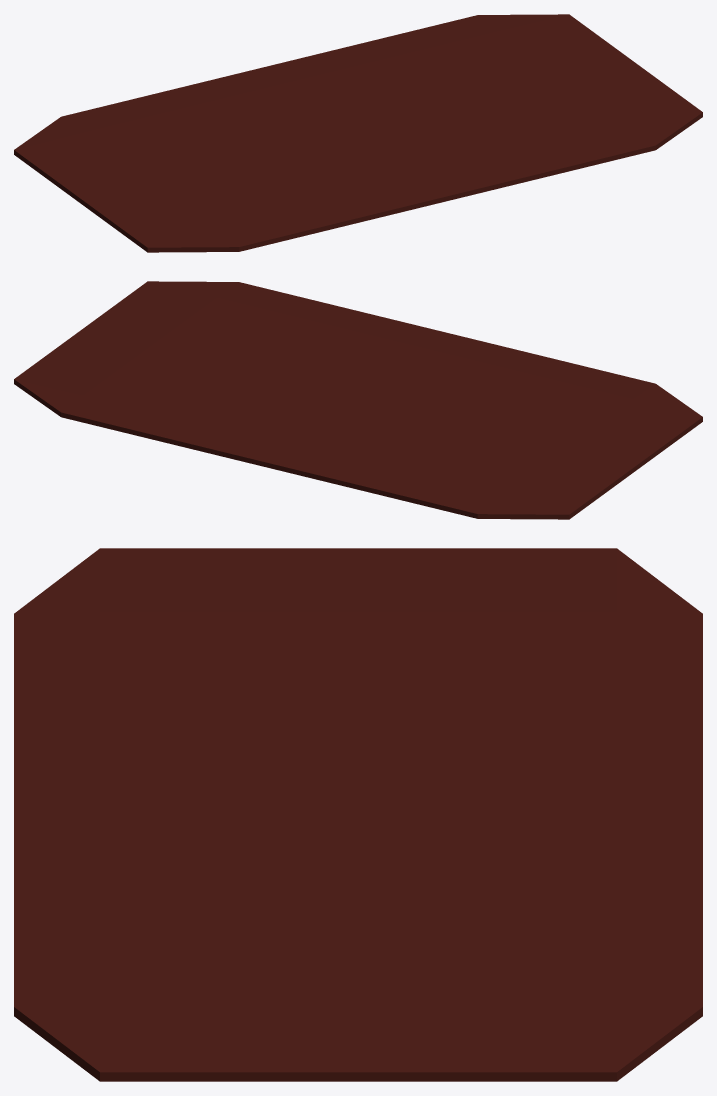
Rendered from SimpleRugOrCarpet.fbx.
The picture shows the model from 3 angles, top to bottom: view 1: azimuth 30°, elevation 25°; view 2: azimuth 150°, elevation 25°; view 3: azimuth 270°, elevation 25°; orthographic projection. The views are drawn at different scales.
Visible parts, largest first — view 1: block_bevel; view 2: block_bevel; view 3: block_bevel.
Boxes of the visible parts, x1,y1,x2,y2 form: block_bevel: (14, 14, 702, 252); block_bevel: (14, 281, 702, 519); block_bevel: (14, 548, 702, 1081).
Bounding box in the file's own units: 90 × 1 × 50.
